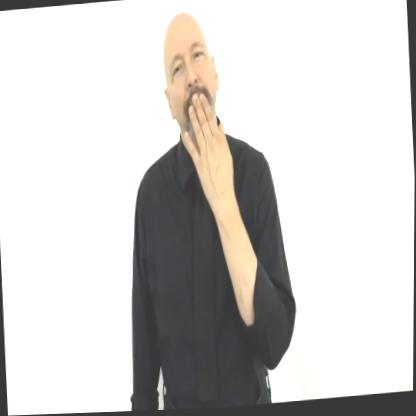ThankYou: (110, 3, 303, 413)
